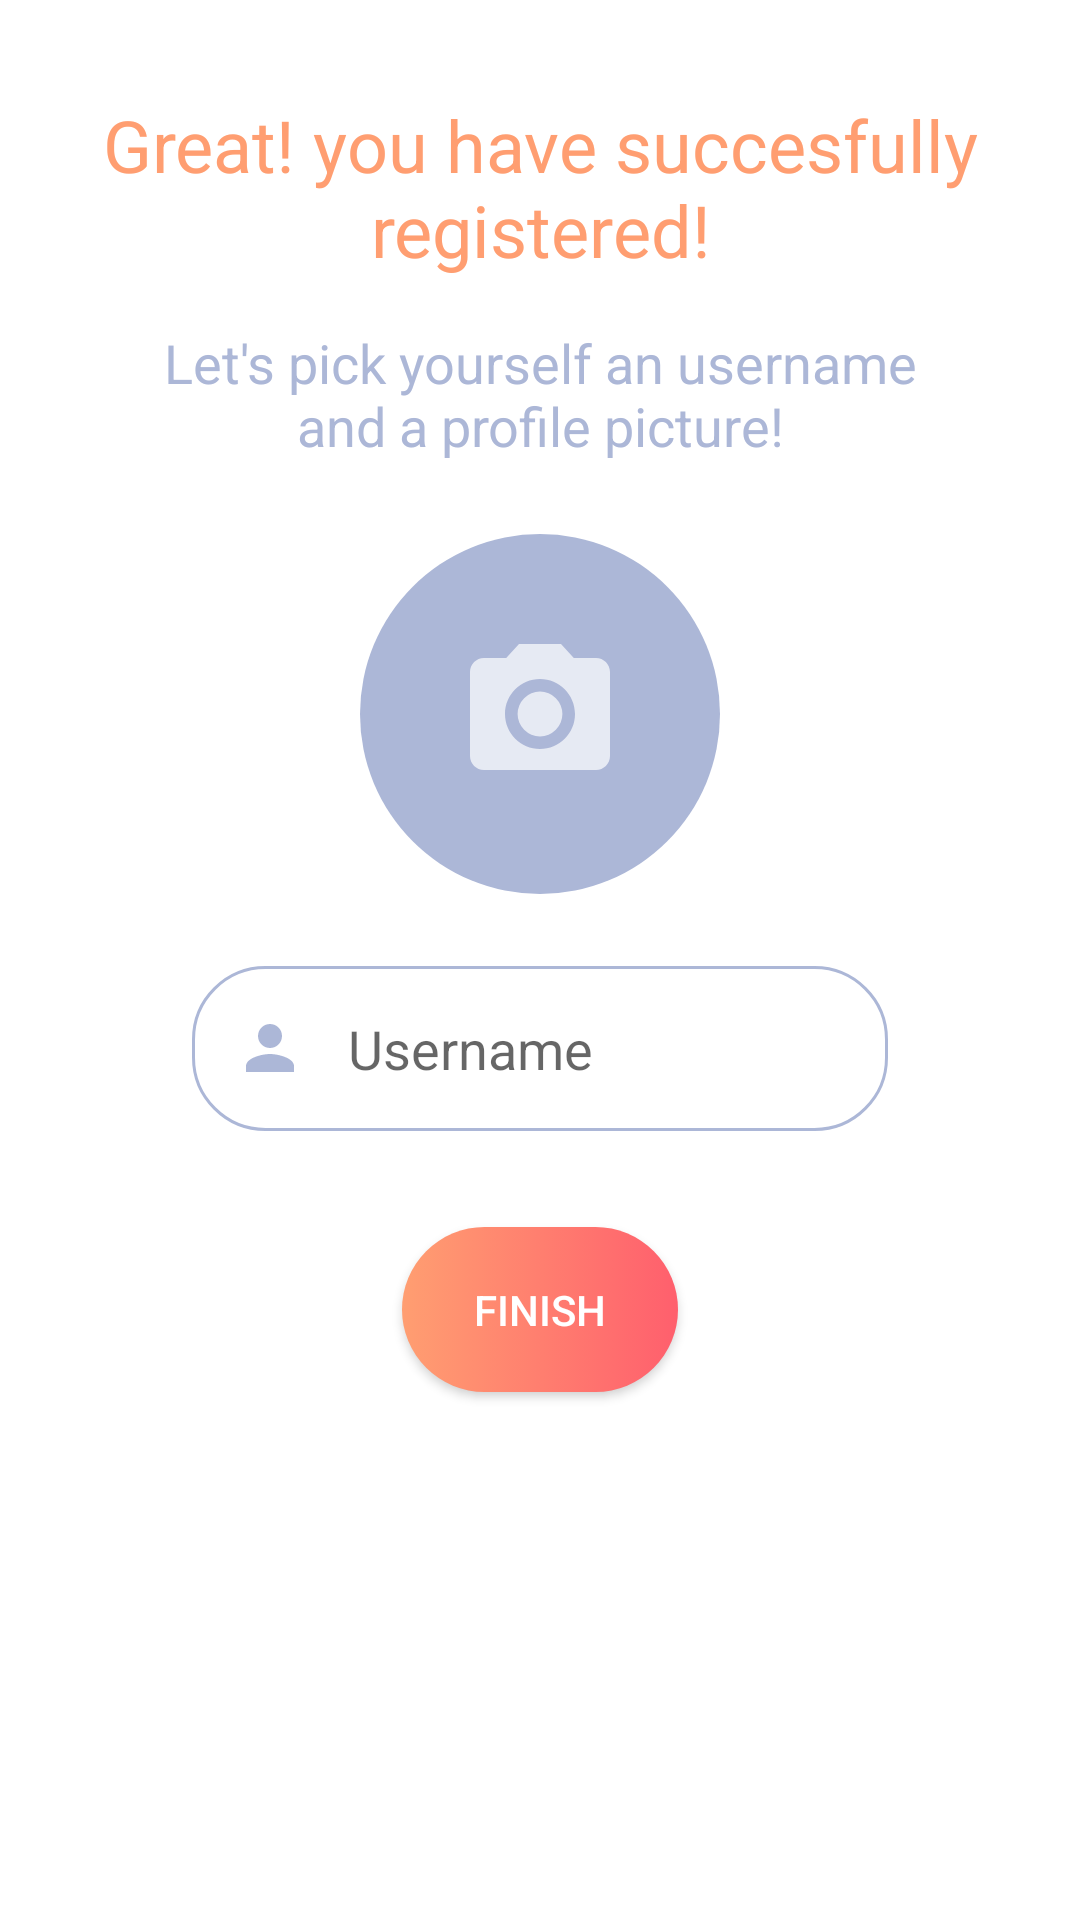

Named icons in this screenshot (1080px×1920px) and their centers, point (x, y):
camera: point (540, 714)
